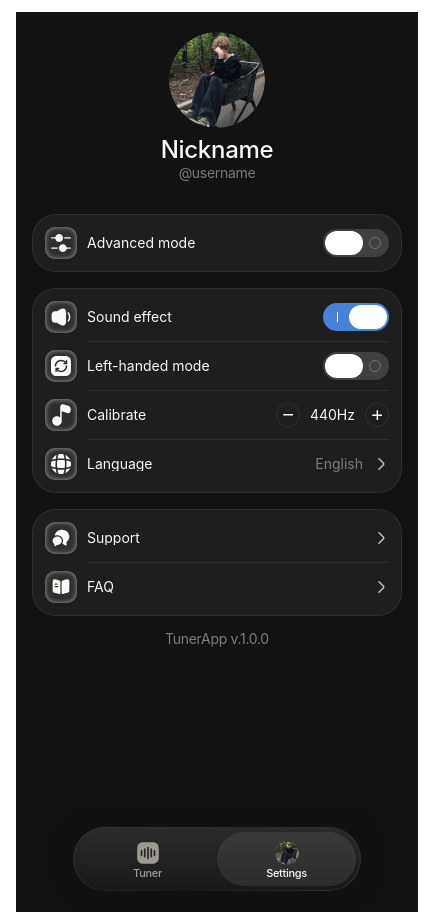
AppShell › navigates back to Advanced Tuner from Settings when tunerMode is advanced
Click the switch named "Advanced mode".
click(356, 243)  # box [323, 229, 389, 257]
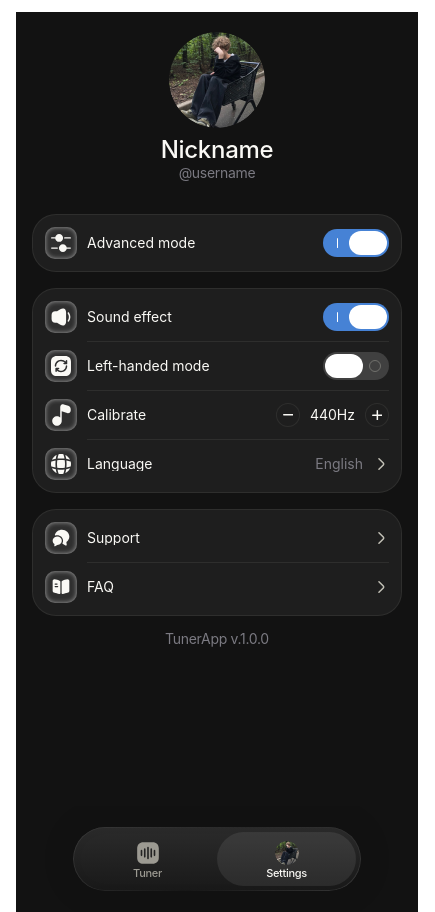
Click the button "Tuner".
click(148, 859)  # box [78, 832, 217, 886]
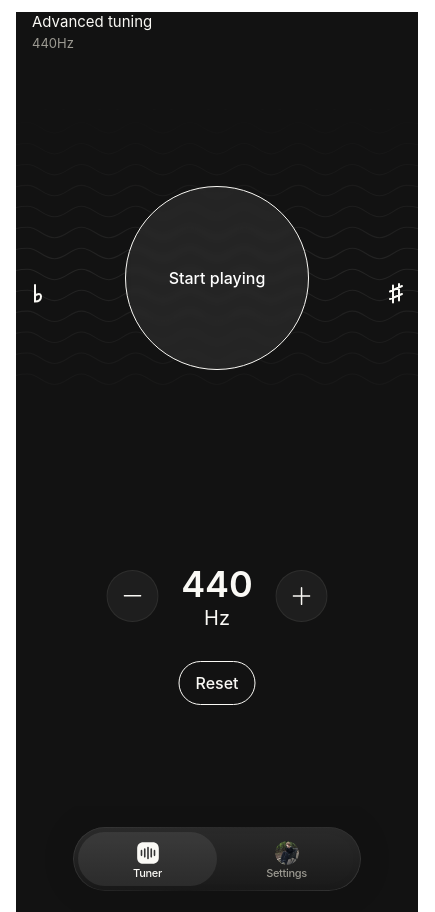
Expected: the text "Advanced tuning" is shown, [32, 12, 152, 31]
